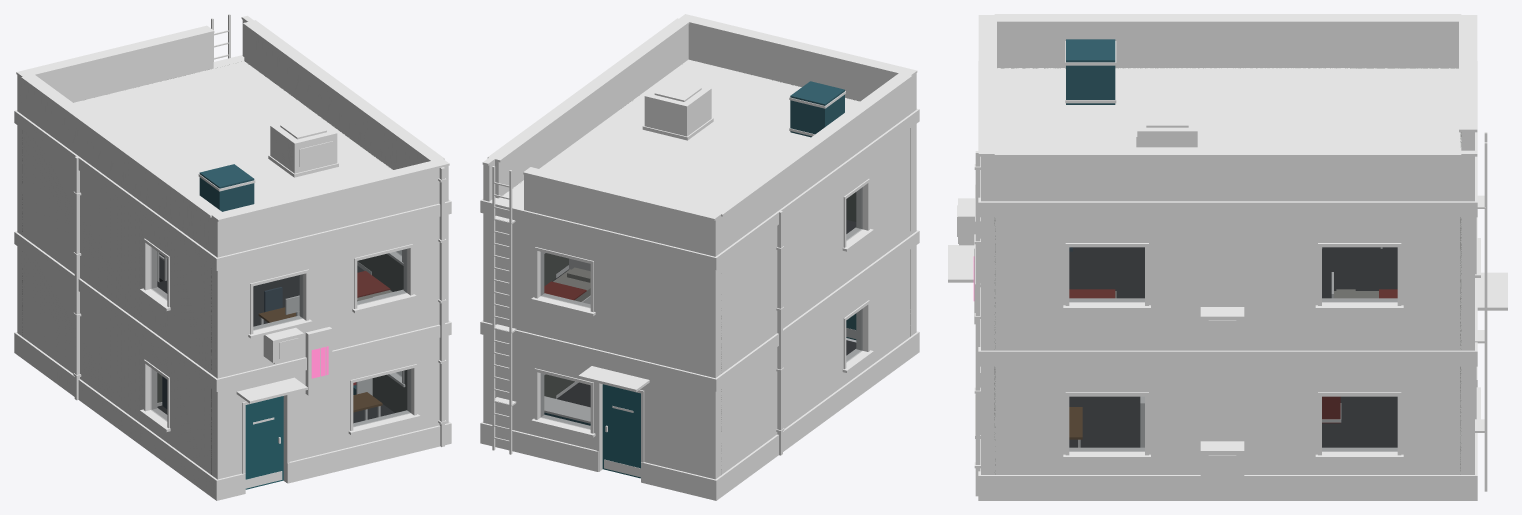
File: house_rowhouse.glb
3 renders of one model, left to right at view 1: azimuth 30°, elevation 25°; view 2: azimuth 150°, elevation 25°; view 3: azimuth 270°, elevation 25°, orthographic. The views are drawn at different scales.
Parts seen in each view (by area): view 1: rowhouse_concrete_dark, rowhouse_gunmetal, rowhouse_concrete, rowhouse_pane, rowhouse_dark, door_0_door_teal, rowhouse_titan, rowhouse_plaster, rowhouse_paint_teal, rowhouse_floor, rowhouse_wood, rowhouse_fabric (+2 smaller); view 2: rowhouse_concrete_dark, rowhouse_gunmetal, rowhouse_concrete, rowhouse_pane, door_1_door_teal, rowhouse_titan, rowhouse_paint_teal, rowhouse_plaster, rowhouse_dark, rowhouse_floor, rowhouse_mattress, rowhouse_cloth; view 3: rowhouse_concrete_dark, rowhouse_concrete, rowhouse_gunmetal, rowhouse_pane, rowhouse_floor, rowhouse_titan, rowhouse_dark, rowhouse_paint_teal, rowhouse_cloth.
Part boxes in pixels (left/top/right/bottom): rowhouse_concrete_dark: left=17, top=20, right=448, bottom=479; rowhouse_gunmetal: left=16, top=14, right=449, bottom=483; rowhouse_concrete: left=14, top=55, right=451, bottom=500; rowhouse_pane: left=151, top=247, right=410, bottom=426; rowhouse_dark: left=22, top=118, right=446, bottom=424; door_0_door_teal: left=245, top=396, right=283, bottom=489; rowhouse_titan: left=263, top=115, right=337, bottom=362; rowhouse_plaster: left=22, top=61, right=407, bottom=474; rowhouse_paint_teal: left=199, top=164, right=356, bottom=394; rowhouse_floor: left=157, top=253, right=394, bottom=422; rowhouse_wood: left=258, top=307, right=382, bottom=412; rowhouse_fabric: left=162, top=287, right=282, bottom=408; rowhouse_concrete_dark: left=483, top=24, right=916, bottom=479; rowhouse_gunmetal: left=482, top=14, right=917, bottom=471; rowhouse_concrete: left=480, top=109, right=919, bottom=500; rowhouse_pane: left=541, top=187, right=862, bottom=429; door_1_door_teal: left=602, top=384, right=640, bottom=478; rowhouse_titan: left=644, top=78, right=711, bottom=136; rowhouse_paint_teal: left=544, top=81, right=844, bottom=425; rowhouse_plaster: left=544, top=80, right=910, bottom=469; rowhouse_dark: left=556, top=81, right=910, bottom=432; rowhouse_floor: left=552, top=220, right=856, bottom=406; rowhouse_mattress: left=553, top=267, right=590, bottom=301; rowhouse_cloth: left=544, top=281, right=586, bottom=299; rowhouse_concrete_dark: left=981, top=24, right=1474, bottom=474; rowhouse_concrete: left=978, top=61, right=1477, bottom=500; rowhouse_gunmetal: left=948, top=14, right=1507, bottom=496; rowhouse_pane: left=1069, top=247, right=1397, bottom=451; rowhouse_floor: left=1069, top=247, right=1397, bottom=447; rowhouse_titan: left=958, top=105, right=1244, bottom=478; rowhouse_dark: left=957, top=41, right=1461, bottom=474; rowhouse_paint_teal: left=1066, top=39, right=1115, bottom=104; rowhouse_cloth: left=1069, top=289, right=1397, bottom=298.
Size of the model in its own units: 6.55 by 7.19 by 10.2.
